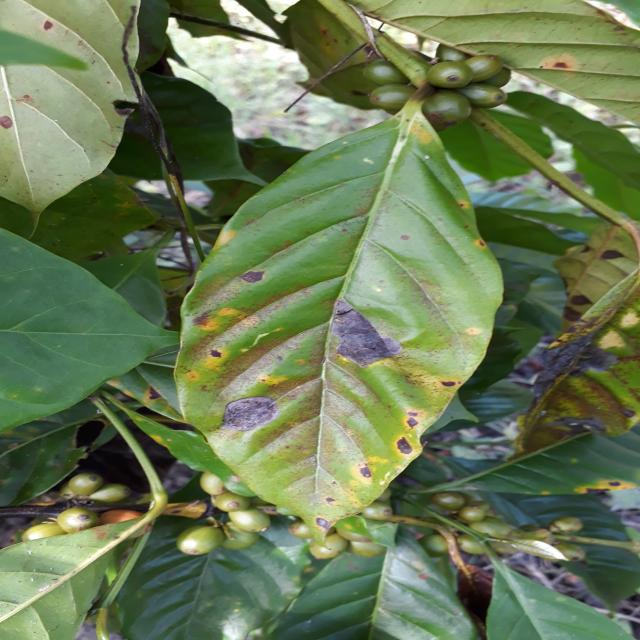Enfermedad-Roya: (171, 101, 504, 531)
